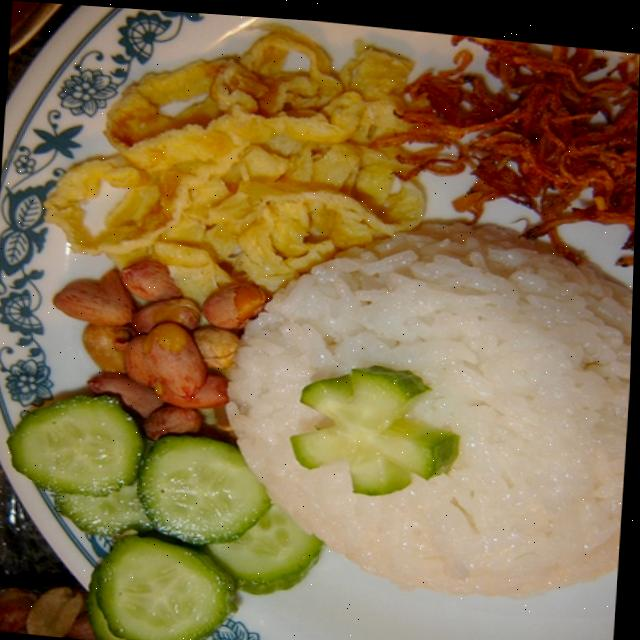米饭主食: (0, 1, 640, 640)
